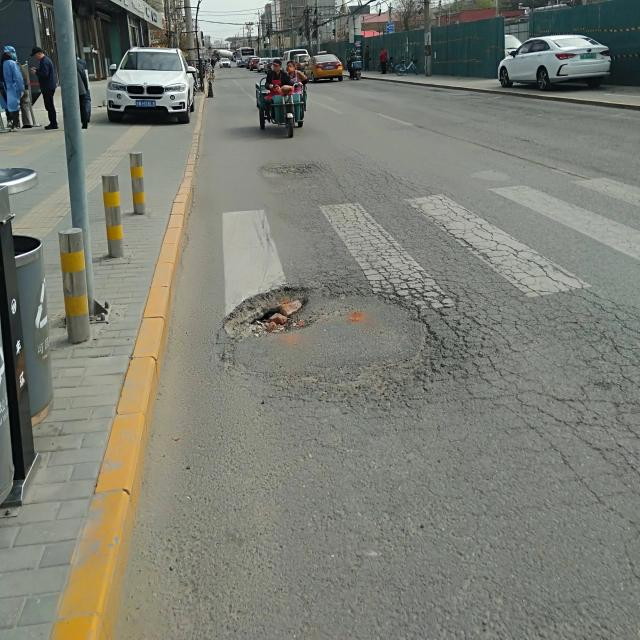Pothole: (215, 289, 432, 385), (260, 164, 321, 180)
